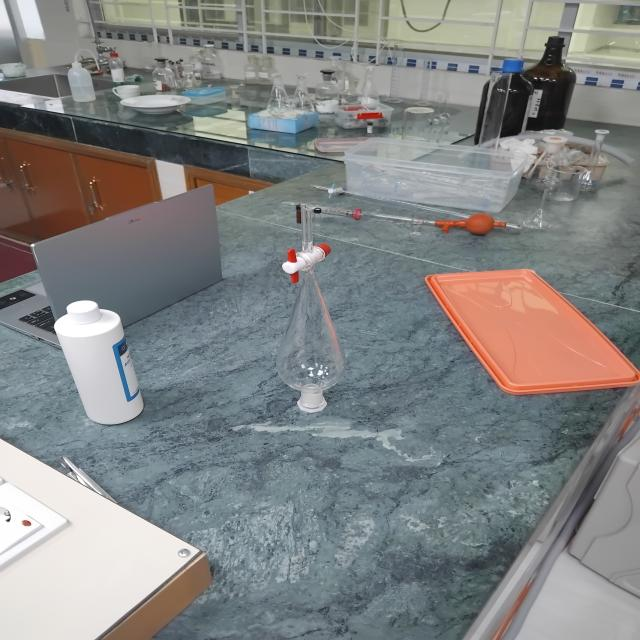Separating_Funnel: (242, 185, 390, 442)
